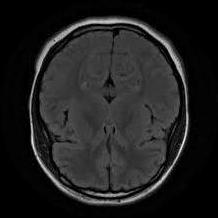Normal_Brain: (9, 2, 218, 213)
